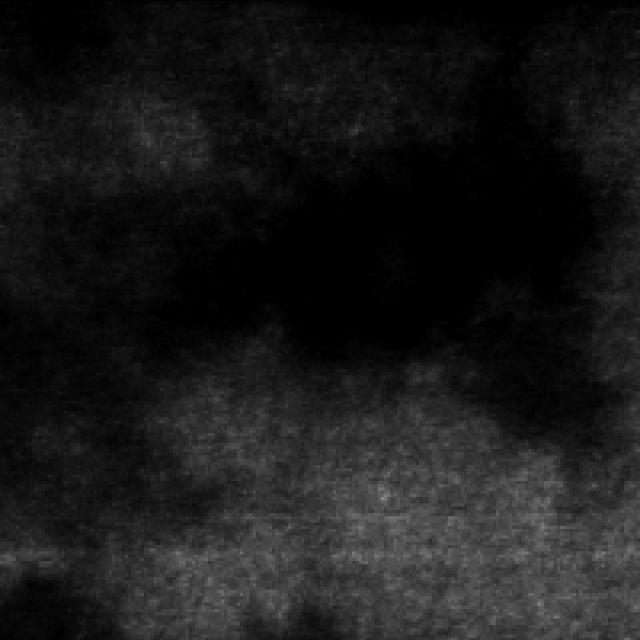patches: (57, 120, 595, 430), (0, 557, 96, 637)
